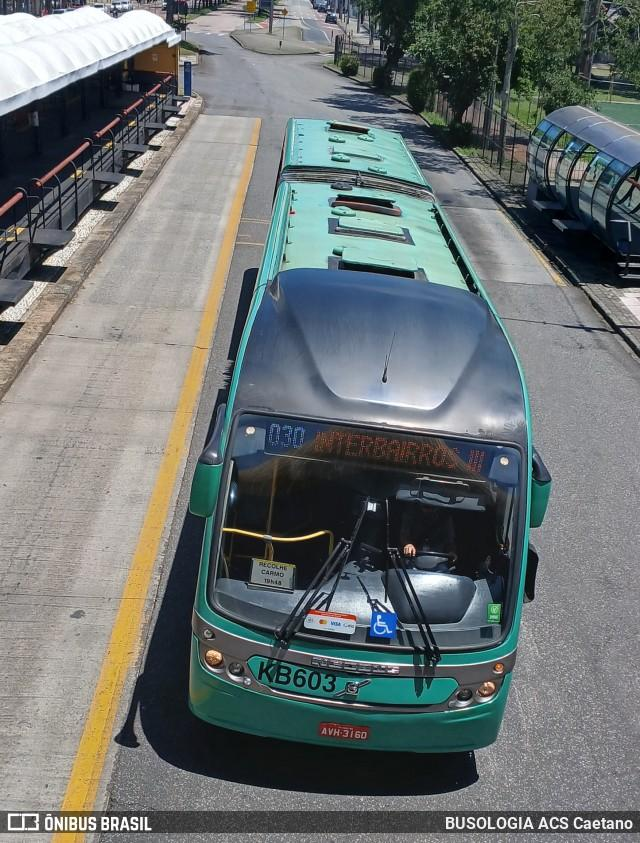INTERBAIRROS III: (307, 423, 494, 483)
